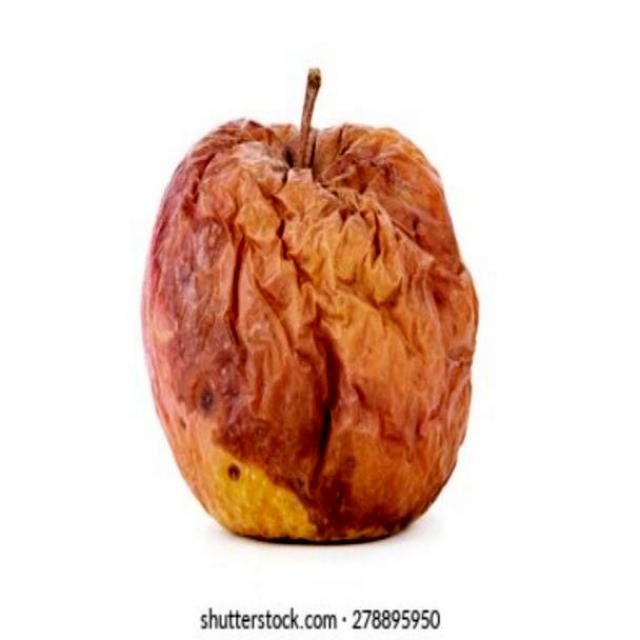ROT: (112, 88, 504, 561)
